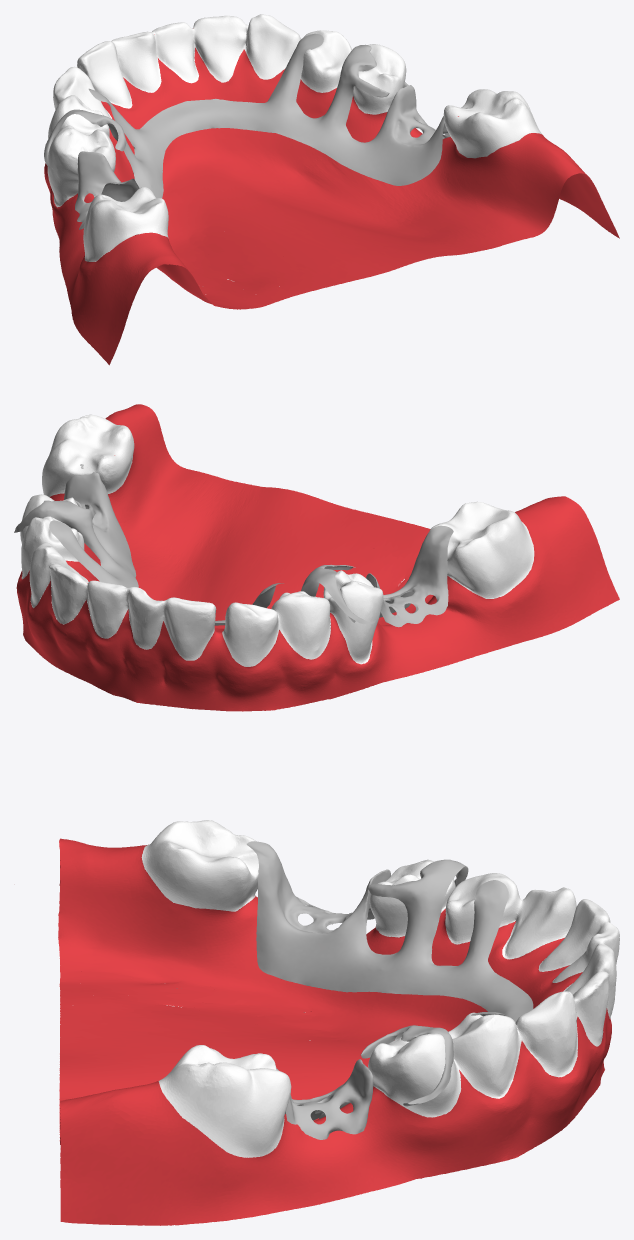
The model's file is 1756915842556-07_Kennedy classification III modification 1 (Lower arch)-draco.glb.
The picture shows the model from 3 angles, top to bottom: view 1: azimuth 30°, elevation 25°; view 2: azimuth 150°, elevation 25°; view 3: azimuth 270°, elevation 25°; orthographic projection. The views are drawn at different scales.
Parts seen in each view (by area): view 1: 07_teeth, 07_cast; view 2: 07_teeth, 07_cast; view 3: 07_teeth, 07_cast.
Part boxes in pixels (x1=…): 07_teeth: x1=44, y1=14, x2=619, y2=365; 07_cast: x1=44, y1=33, x2=467, y2=229; 07_teeth: x1=16, y1=404, x2=619, y2=711; 07_cast: x1=14, y1=464, x2=453, y2=627; 07_teeth: x1=58, y1=820, x2=619, y2=1225; 07_cast: x1=246, y1=841, x2=533, y2=1139.
Size of the model in its own units: 72.39 by 29.6 by 60.18.
